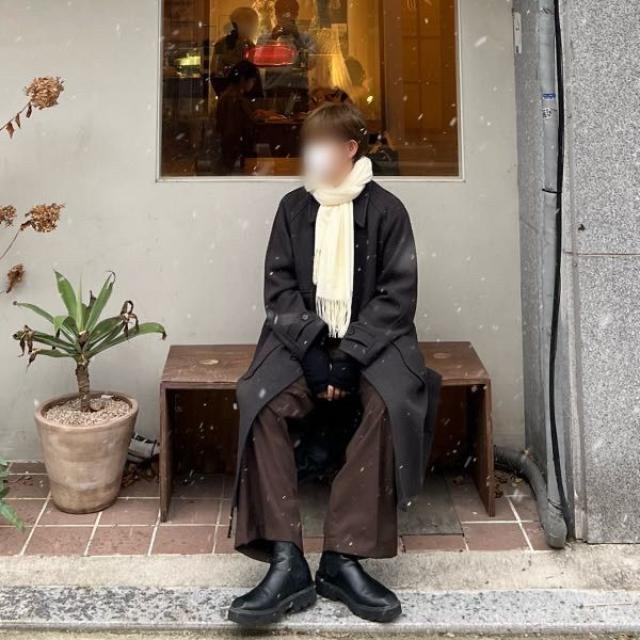coat: (228, 177, 443, 540)
slacks: (236, 356, 399, 558)
